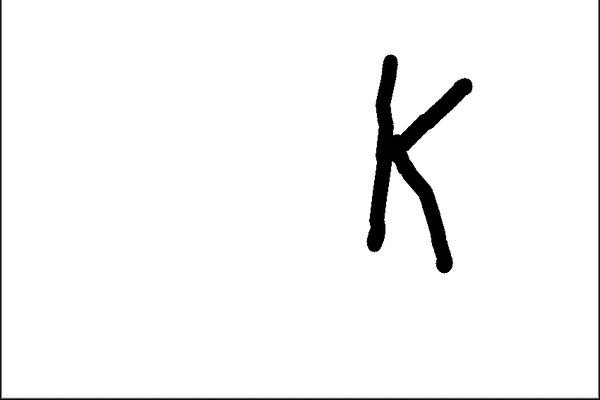K: (362, 50, 476, 277)
